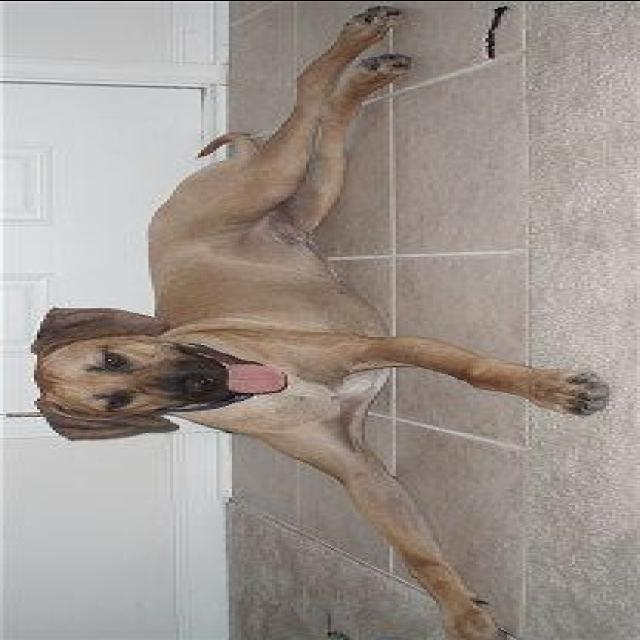rhodesian_ridgeback: (21, 2, 603, 640)
